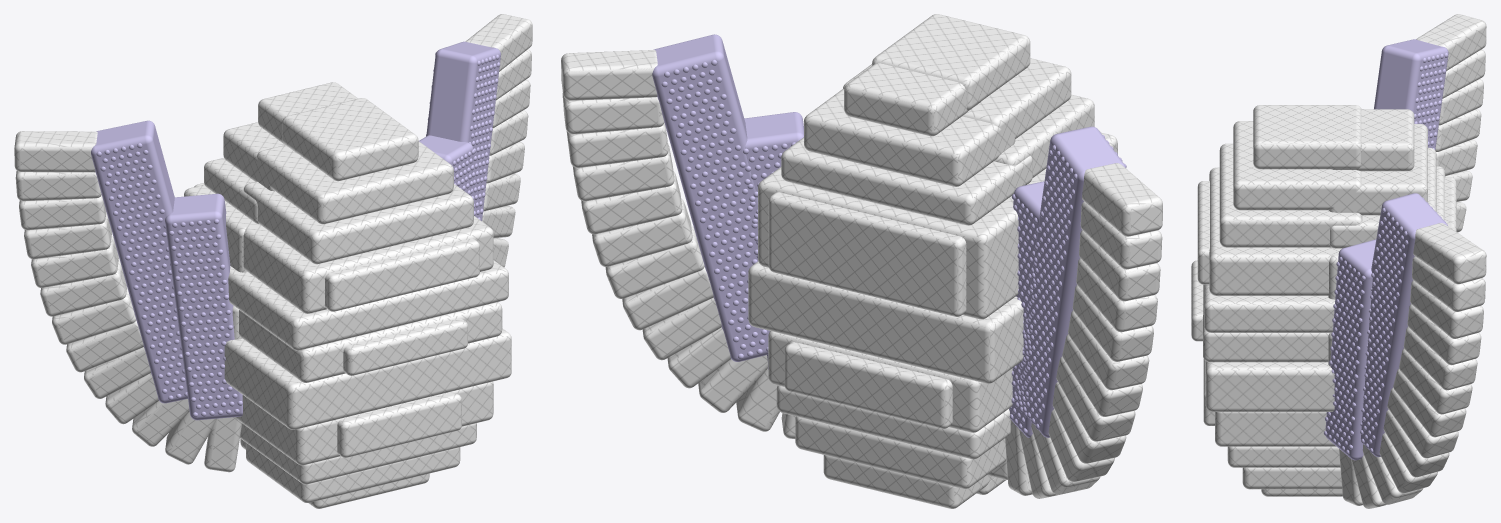
The model's file is block_wing.obj.
3 views of the same model, side by side, from view 1: azimuth 30°, elevation 25°; view 2: azimuth 150°, elevation 25°; view 3: azimuth 270°, elevation 25° (orthographic). The views are drawn at different scales.
Parts seen in each view (by area): view 1: LeftWing_StudPlate1, Body_Front_Row07, LeftWing_StudPlate2, Body_Front_Row05, Body_Front_Row03, Body_Front_Row02, Body_Front_Row01, RightWing_StudPlate1, Body_Front_Row04, Body_Front_Plate3, Body_Front_Row06, Body_Front_Plate2 (+30 smaller); view 2: RightWing_StudPlate1, Body_Back_Row05, Body_Back_Plate1, LeftWing_StudPlate1, Body_Back_Row02, Body_Back_Row03, Body_Back_Row04, Body_Back_Plate2, Body_Front_Row01, Body_Back_Row08, Body_Back_Row01, Body_Back_Row07 (+31 smaller); view 3: RightWing_StudPlate1, RightWing_StudPlate2, Body_Front_Row01, Body_Front_Row04, Body_Front_Row07, Body_Front_Row02, Body_Front_Row03, LeftWing_StudPlate1, Body_Front_Row05, Body_Front_Row08, Body_Front_Row06, Body_Back_Row01 (+28 smaller).
Part boxes in pixels (x1,y1,x2,y2): LeftWing_StudPlate1: [91, 120, 187, 403]; Body_Front_Row07: [224, 328, 511, 429]; LeftWing_StudPlate2: [165, 193, 242, 420]; Body_Front_Row05: [228, 260, 508, 350]; Body_Front_Row03: [244, 181, 473, 264]; Body_Front_Row02: [257, 141, 453, 224]; Body_Front_Row01: [282, 98, 418, 181]; RightWing_StudPlate1: [426, 41, 500, 220]; Body_Front_Row04: [237, 216, 493, 313]; Body_Front_Plate3: [325, 238, 479, 311]; Body_Front_Row06: [239, 302, 502, 382]; Body_Front_Plate2: [337, 392, 461, 457]; RightWing_StudPlate1: [652, 34, 769, 361]; Body_Back_Row05: [748, 261, 1023, 383]; Body_Back_Plate1: [768, 192, 966, 316]; LeftWing_StudPlate1: [1014, 126, 1126, 437]; Body_Back_Row02: [804, 88, 1015, 186]; Body_Back_Row03: [781, 137, 1032, 225]; Body_Back_Row04: [758, 167, 1018, 319]; Body_Back_Plate2: [784, 342, 952, 428]; Body_Front_Row01: [872, 14, 1030, 110]; Body_Back_Row08: [795, 416, 1006, 488]; Body_Back_Row01: [844, 63, 980, 136]; Body_Back_Row07: [776, 385, 1010, 459]; RightWing_StudPlate1: [1360, 193, 1447, 457]; RightWing_StudPlate2: [1323, 239, 1376, 460]; Body_Front_Row01: [1253, 105, 1361, 169]; Body_Front_Row04: [1209, 167, 1341, 295]; Body_Front_Row07: [1205, 361, 1334, 411]; Body_Front_Row02: [1233, 121, 1361, 210]; Body_Front_Row03: [1219, 143, 1362, 247]; LeftWing_StudPlate1: [1374, 39, 1448, 149]; Body_Front_Row05: [1204, 284, 1335, 332]; Body_Front_Row08: [1215, 412, 1336, 446]; Body_Front_Row06: [1203, 284, 1329, 362]; Body_Back_Row01: [1332, 109, 1414, 171].
Size of the model in its own units: 5.12 by 3.37 by 2.59.
3 materials, 2 textured.
